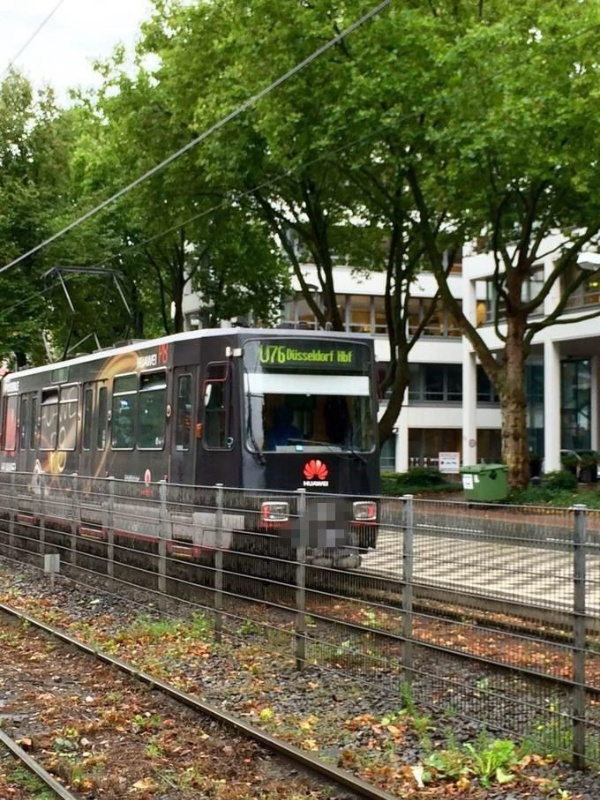text: (51, 426, 64, 475), (273, 345, 286, 364), (261, 345, 272, 364), (289, 349, 304, 362), (305, 349, 320, 362), (321, 349, 335, 362), (145, 354, 157, 369), (338, 351, 352, 363), (161, 344, 168, 367), (137, 354, 144, 369), (305, 481, 320, 486), (65, 426, 66, 475), (158, 344, 160, 367), (321, 481, 329, 486), (287, 349, 288, 362)
